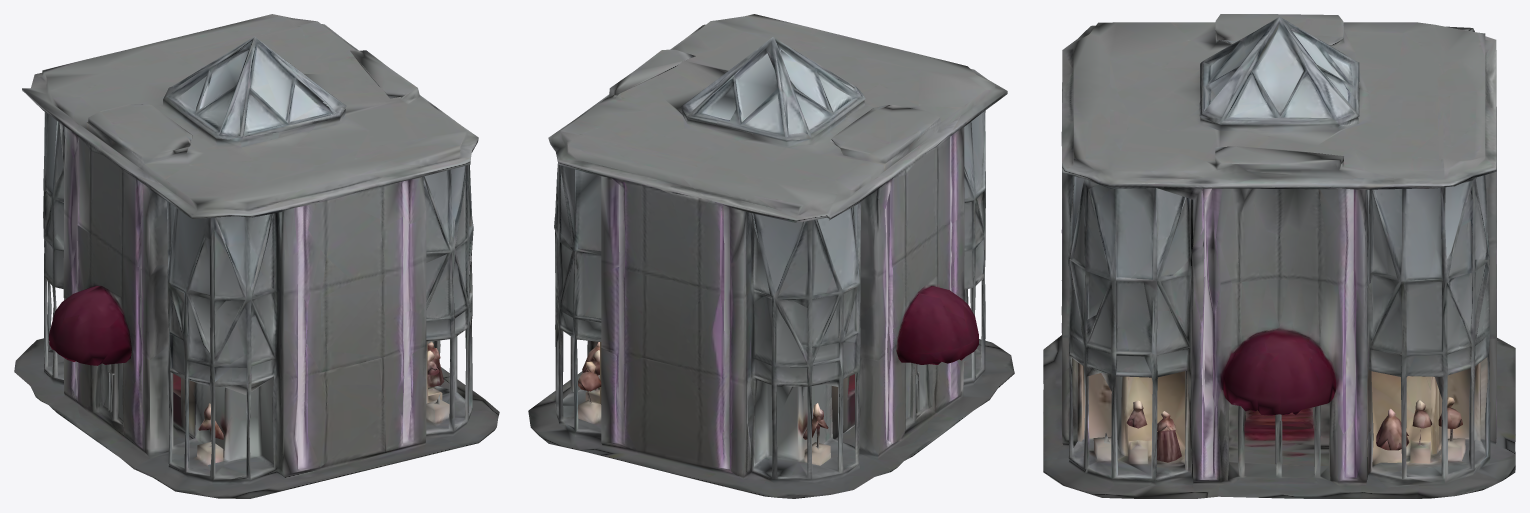
Rendered from au_bld_cosplayverse.glb.
The picture shows the model from 3 angles, left to right: view 1: azimuth 30°, elevation 25°; view 2: azimuth 150°, elevation 25°; view 3: azimuth 270°, elevation 25°; orthographic projection. The views are drawn at different scales.
Visible parts, largest first — view 1: tripo_node_080ba915-fa52-4c97-9547-c0d962d5eeb1; view 2: tripo_node_080ba915-fa52-4c97-9547-c0d962d5eeb1; view 3: tripo_node_080ba915-fa52-4c97-9547-c0d962d5eeb1.
Part boxes in pixels (<box>): tripo_node_080ba915-fa52-4c97-9547-c0d962d5eeb1: <box>14,14,499,498</box>; tripo_node_080ba915-fa52-4c97-9547-c0d962d5eeb1: <box>528,14,1014,498</box>; tripo_node_080ba915-fa52-4c97-9547-c0d962d5eeb1: <box>1043,14,1515,498</box>.
Size of the model in its own units: 0.9796 by 0.8578 by 0.934.
Materials: 1 (1 with a texture image).
